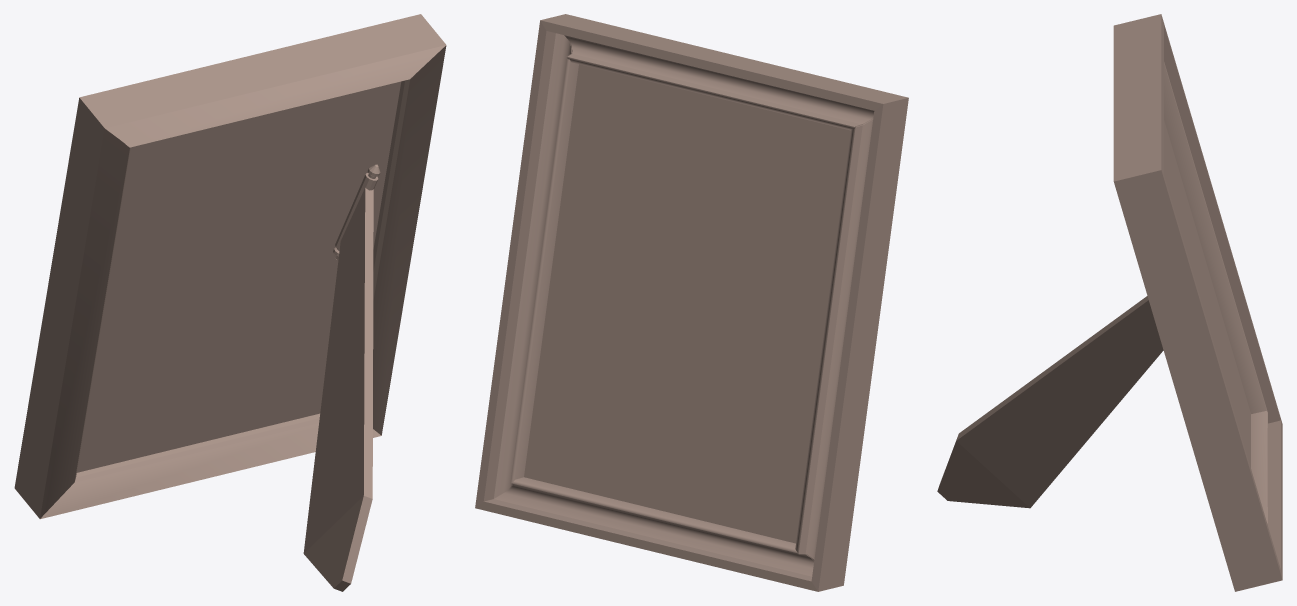
The model's file is elderly_couple_photo.fbx.
3 views of the same model, side by side, from view 1: azimuth 30°, elevation 25°; view 2: azimuth 150°, elevation 25°; view 3: azimuth 270°, elevation 25° (orthographic). The views are drawn at different scales.
Parts seen in each view (by area): view 1: pCube186; view 2: pCube186; view 3: pCube186.
Part boxes in pixels (left/top/right/bottom): pCube186: left=14, top=14, right=446, bottom=591; pCube186: left=475, top=14, right=908, bottom=591; pCube186: left=937, top=14, right=1282, bottom=591.
Bounding box in the file's own units: 20.39 × 25.7 × 19.07.
